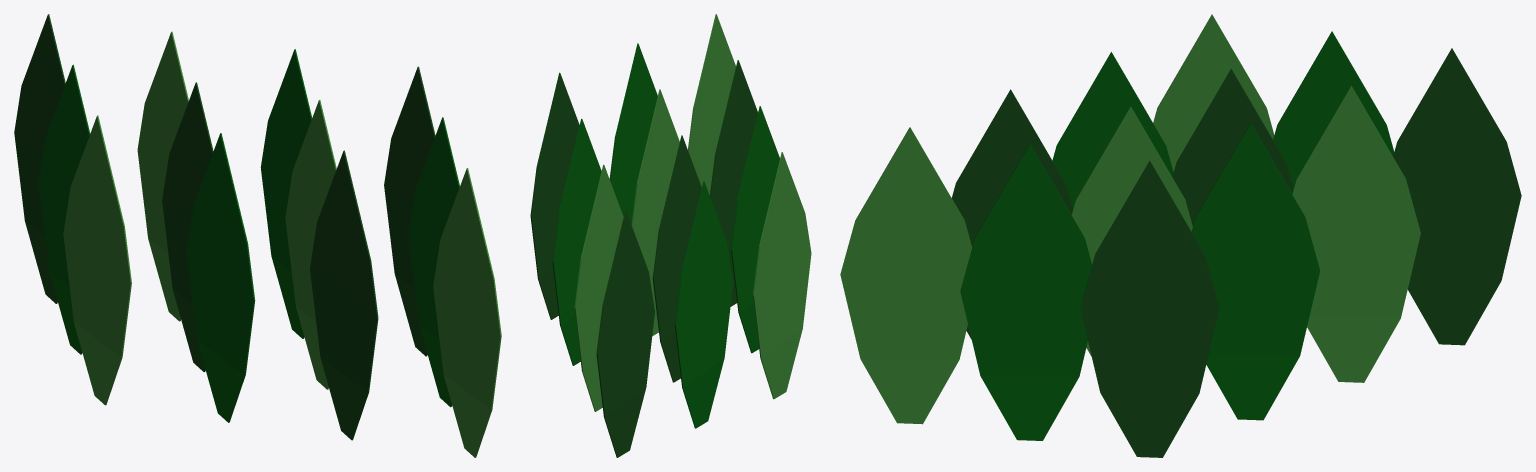
File: grass.fbx
The picture shows the model from 3 angles, left to right: view 1: azimuth 30°, elevation 25°; view 2: azimuth 150°, elevation 25°; view 3: azimuth 270°, elevation 25°; orthographic projection. The views are drawn at different scales.
Parts seen in each view (by area): view 1: Plane.002; view 2: Plane.002; view 3: Plane.002.
Part boxes in pixels (<box>): Plane.002: <box>14,14,501,457</box>; Plane.002: <box>530,14,811,457</box>; Plane.002: <box>840,14,1521,457</box>.
Bounding box in the file's own units: 238 × 220 × 460.
1 material, 1 textured.
